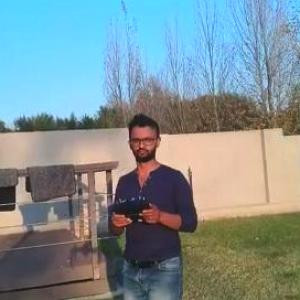follow: (104, 108, 202, 299)
